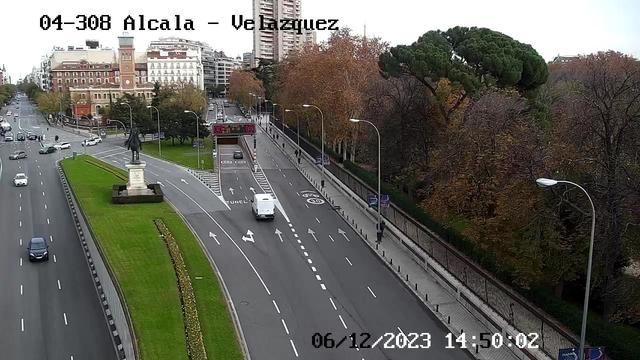car: (27, 237, 49, 263)
truck: (251, 194, 275, 222)
